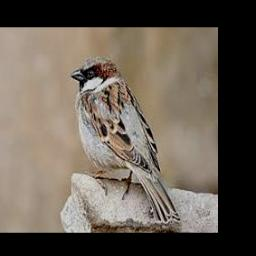Sparrow: (70, 55, 180, 223)
